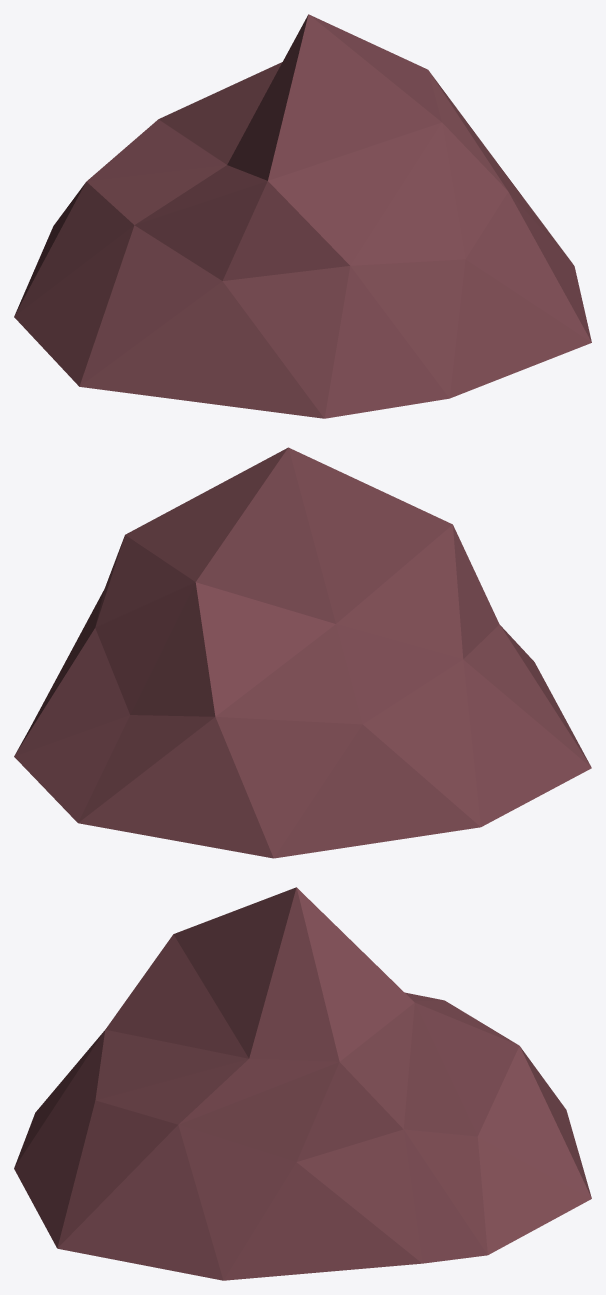
File: rock_2.fbx
3 renders of one model, top to bottom at view 1: azimuth 30°, elevation 25°; view 2: azimuth 150°, elevation 25°; view 3: azimuth 270°, elevation 25°, orthographic.
Visible parts, largest first — view 1: Icosphere; view 2: Icosphere; view 3: Icosphere.
Part boxes in pixels (<box>): Icosphere: <box>14,14,591,418</box>; Icosphere: <box>14,447,591,858</box>; Icosphere: <box>14,887,591,1280</box>.
Bounding box in the file's own units: 101 × 54.86 × 102.
